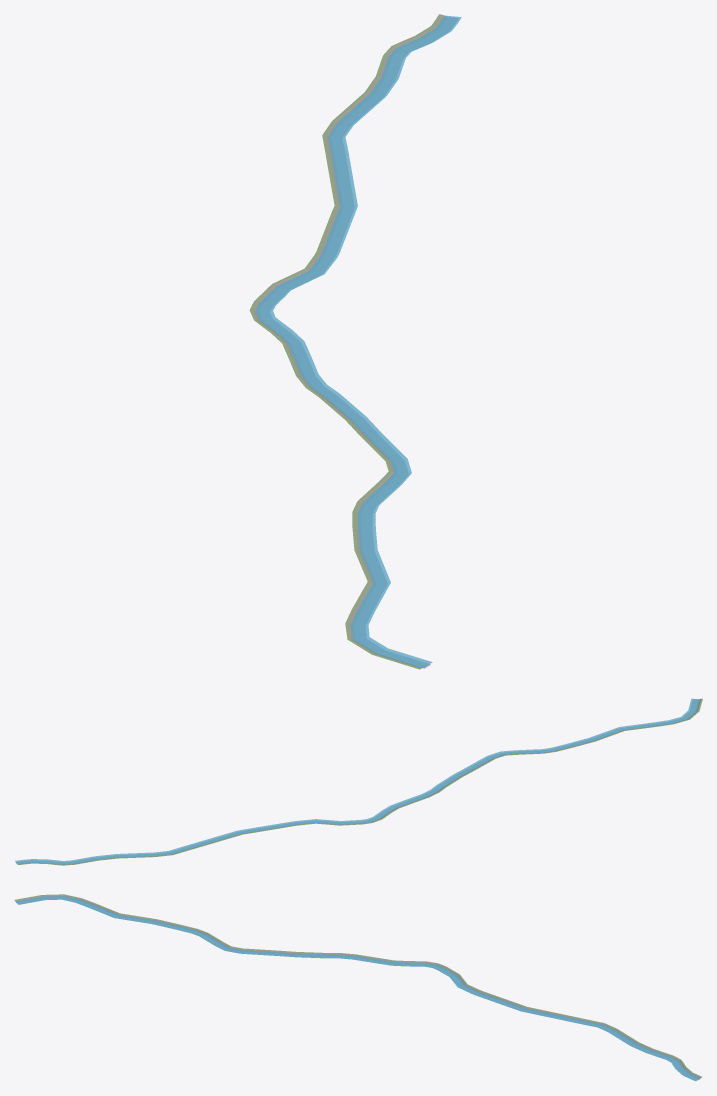
File: corridor-01.glb
3 renders of one model, top to bottom at view 1: azimuth 30°, elevation 25°; view 2: azimuth 150°, elevation 25°; view 3: azimuth 270°, elevation 25°, orthographic. The views are drawn at different scales.
Visible parts, largest first — view 1: water_water, concreteDark_terrain, rock_terrain, grass_terrain; view 2: water_water, concreteDark_terrain, grass_terrain, rock_terrain; view 3: water_water, concreteDark_terrain, rock_terrain, grass_terrain.
Part boxes in pixels (x1,y1,x2,y2): water_water: (255,15,461,668); concreteDark_terrain: (259,17,457,668); rock_terrain: (253,15,446,668); grass_terrain: (249,14,441,669); water_water: (15,698,699,864); concreteDark_terrain: (15,700,697,864); grass_terrain: (18,698,702,865); rock_terrain: (18,699,700,864); water_water: (15,896,700,1080); concreteDark_terrain: (16,897,699,1080); rock_terrain: (15,895,701,1078); grass_terrain: (14,894,702,1077).
Bounding box in the file's own units: 6611 × 87.71 × 10504.
Materials: 4 (4 with a texture image).
